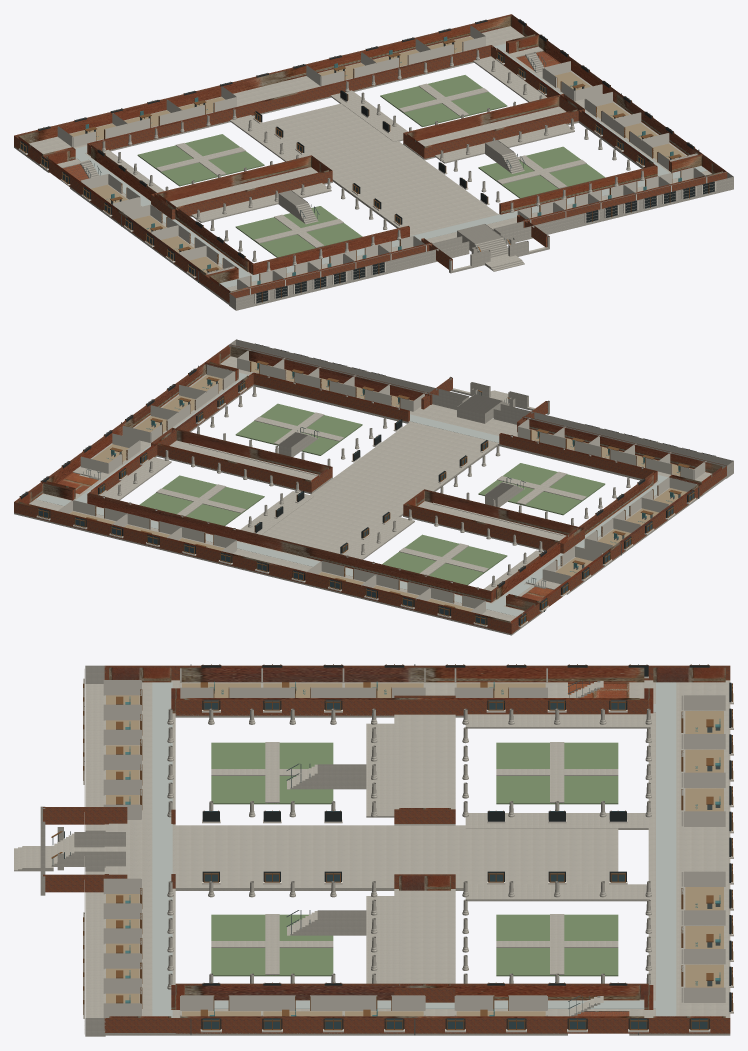
File: hku-main-building-gf-cutaway-v5.glb
The picture shows the model from 3 angles, top to bottom: view 1: azimuth 30°, elevation 25°; view 2: azimuth 150°, elevation 25°; view 3: azimuth 270°, elevation 25°; orthographic projection. The views are drawn at different scales.
Parts seen in each view (by area): view 1: GF central inferred floor cutaway, Courtyard lawn cutaway, Rear accommodation cutaway, Side accommodation cutaway, Front accommodation cutaway, Transverse connector cutaway, Arcade floor cutaway, Rusticated ground storey cutaway, GF room floor cutaway, Courtyard path cutaway, GF rear floor cutaway, GF rear partitions cutaway (+23 smaller); view 2: GF central inferred floor cutaway, Rear accommodation cutaway, Courtyard lawn cutaway, Front accommodation cutaway, Transverse connector cutaway, Side accommodation cutaway, Rusticated ground storey cutaway, GF room floor cutaway, Arcade floor cutaway, Courtyard path cutaway, GF side divisions cutaway, GF front partitions cutaway (+21 smaller); view 3: Side accommodation cutaway, GF central inferred floor cutaway, Courtyard lawn cutaway, Arcade floor cutaway, GF room floor cutaway, GF connector floor cutaway, GF rear floor cutaway, GF side partitions cutaway, GF corridor rear cutaway, GF front divisions cutaway, GF front floor cutaway, Courtyard path cutaway (+19 smaller).
Boxes of the visible parts, x1,y1,x2,y2 form: GF central inferred floor cutaway: (263, 103, 497, 242); Courtyard lawn cutaway: (137, 75, 605, 257); Rear accommodation cutaway: (14, 14, 539, 163); Side accommodation cutaway: (42, 34, 702, 285); Front accommodation cutaway: (205, 154, 727, 303); Transverse connector cutaway: (151, 93, 584, 219); Arcade floor cutaway: (103, 56, 574, 222); Rusticated ground storey cutaway: (229, 171, 733, 310); GF room floor cutaway: (69, 36, 693, 286); Courtyard path cutaway: (156, 83, 586, 247); GF rear floor cutaway: (14, 26, 524, 167); GF rear partitions cutaway: (72, 36, 485, 147); GF central inferred floor cutaway: (262, 411, 513, 553); Rear accommodation cutaway: (14, 482, 539, 633); Courtyard lawn cutaway: (139, 403, 605, 585); Front accommodation cutaway: (205, 344, 726, 493); Transverse connector cutaway: (151, 427, 584, 553); Side accommodation cutaway: (42, 362, 702, 613); Rusticated ground storey cutaway: (229, 339, 733, 478); GF room floor cutaway: (69, 360, 693, 611); Arcade floor cutaway: (101, 443, 563, 590); Courtyard path cutaway: (156, 412, 586, 575); GF side divisions cutaway: (80, 364, 696, 584); GF front partitions cutaway: (237, 358, 693, 479); Side accommodation cutaway: (175, 665, 648, 1033); GF central inferred floor cutaway: (130, 825, 618, 890); Courtyard lawn cutaway: (211, 742, 618, 976); Arcade floor cutaway: (366, 714, 648, 983); GF room floor cutaway: (106, 683, 723, 1016); GF connector floor cutaway: (394, 714, 455, 983); GF rear floor cutaway: (648, 680, 730, 1035); GF side partitions cutaway: (181, 687, 546, 1010); GF corridor rear cutaway: (656, 682, 676, 1016); GF front divisions cutaway: (103, 680, 140, 1017); GF front floor cutaway: (104, 680, 175, 1035); Courtyard path cutaway: (211, 742, 618, 974).
Size of the model in its own units: 82.75 by 2 by 70.78.
Materials: 13 (2 with a texture image).
